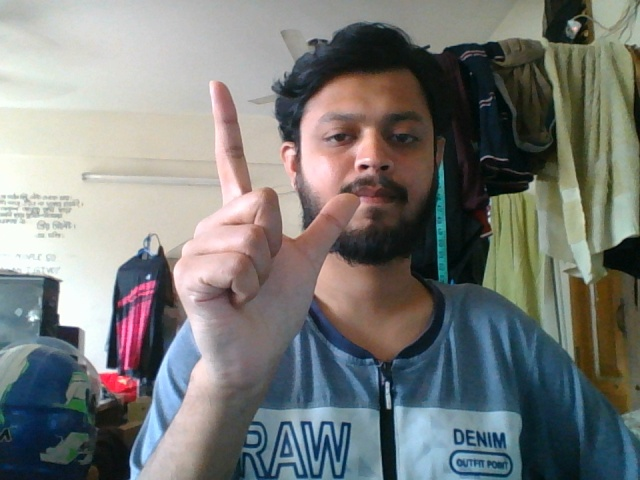la: (155, 75, 360, 417)
